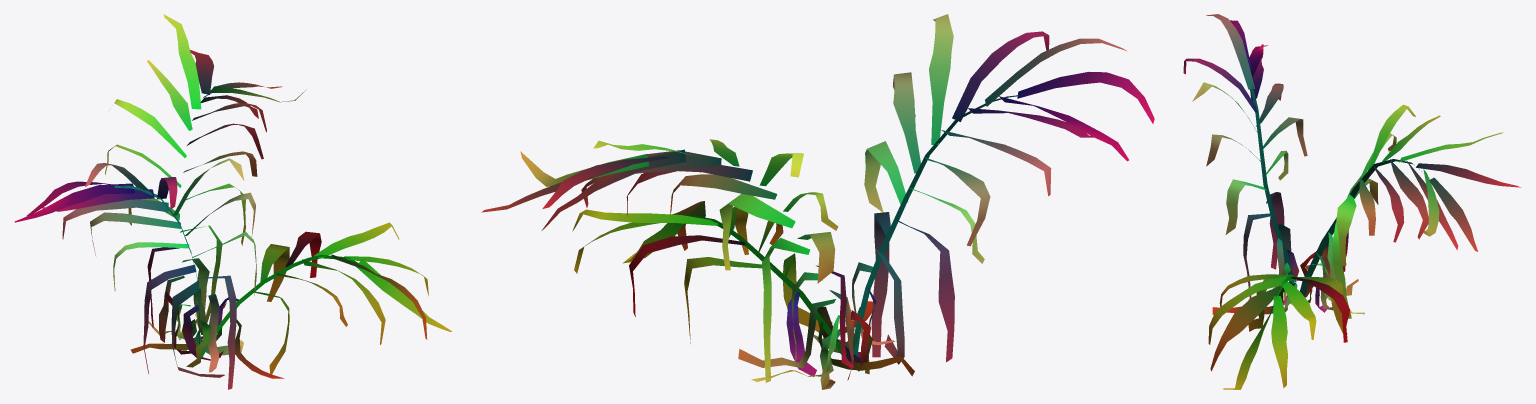
The model's file is Ginger_Plant_sgbmM_Low_sgbmM_VarD_LOD0.fbx.
The picture shows the model from 3 angles, left to right: view 1: azimuth 30°, elevation 25°; view 2: azimuth 150°, elevation 25°; view 3: azimuth 270°, elevation 25°; orthographic projection. The views are drawn at different scales.
Parts seen in each view (by area): view 1: _47a5_VarD_LOD2; view 2: _47a5_VarD_LOD2; view 3: _47a5_VarD_LOD2.
Part boxes in pixels (x1,y1,x2,y2): _47a5_VarD_LOD2: (14, 14, 451, 389); _47a5_VarD_LOD2: (481, 14, 1154, 389); _47a5_VarD_LOD2: (1183, 14, 1520, 389).
Bounding box in the file's own units: 189 × 114 × 147.
